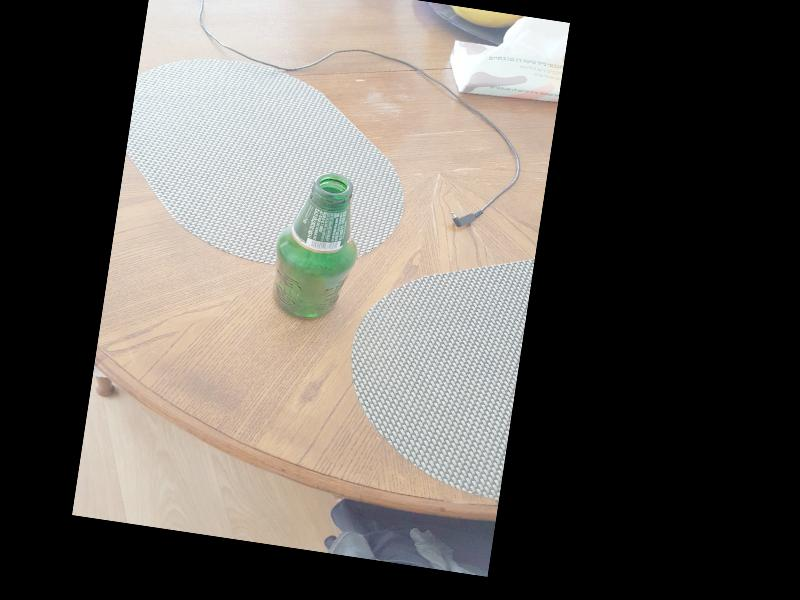Beer: (266, 165, 365, 325)
